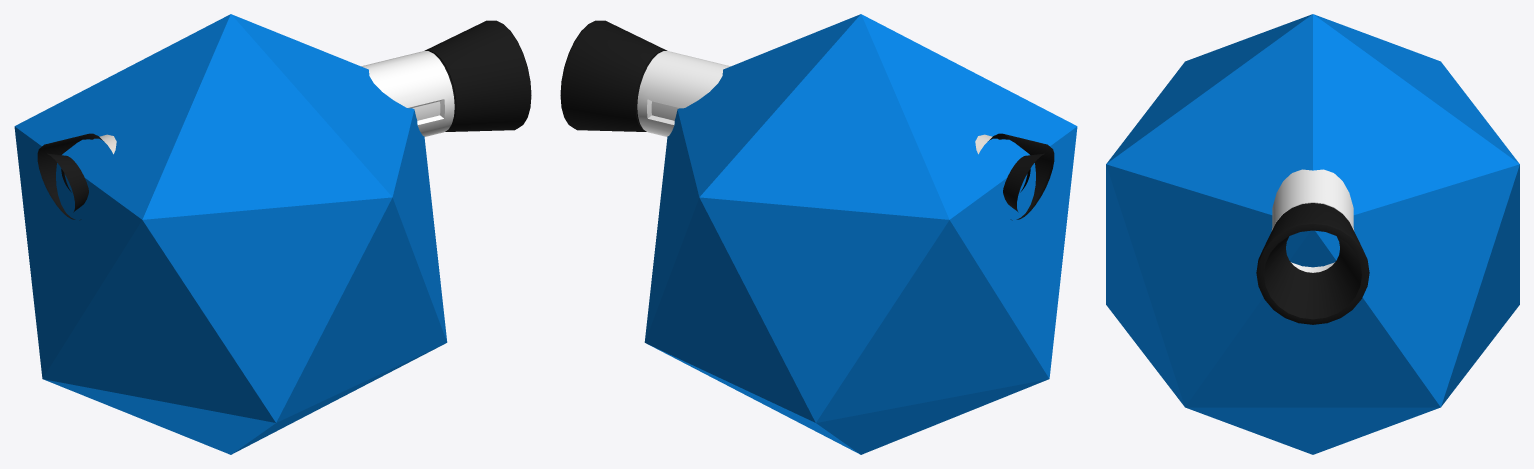
File: Super scoope.glb
3 renders of one model, left to right at view 1: azimuth 30°, elevation 25°; view 2: azimuth 150°, elevation 25°; view 3: azimuth 270°, elevation 25°, orthographic.
Visible parts, largest first — view 1: Joint.032, Super scoope; view 2: Joint.032, Super scoope; view 3: Joint.032, Super scoope.
Boxes of the visible parts, x1,y1,x2,y2 form: Joint.032: [14, 14, 447, 454]; Super scoope: [37, 20, 531, 220]; Joint.032: [644, 14, 1077, 454]; Super scoope: [560, 20, 1054, 220]; Joint.032: [1106, 14, 1519, 454]; Super scoope: [1256, 169, 1369, 324].
Bounding box in the file's own units: 0.3345 × 0.3048 × 0.2593.
